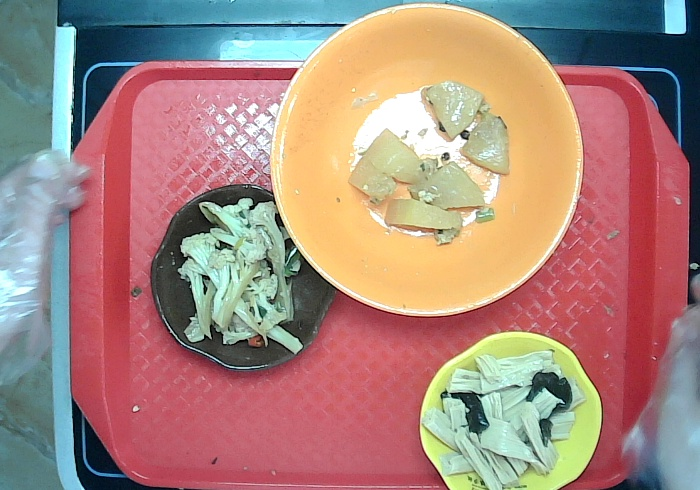YKMZ-Huang_Se_Ao_Bian_Wan: (417, 328, 601, 490)
YKMZ-Ju_Se_Tang_Wan: (268, 3, 584, 316)
YKMZ-Ka_Fei_Ao_Bian_Wan: (150, 184, 335, 374)
